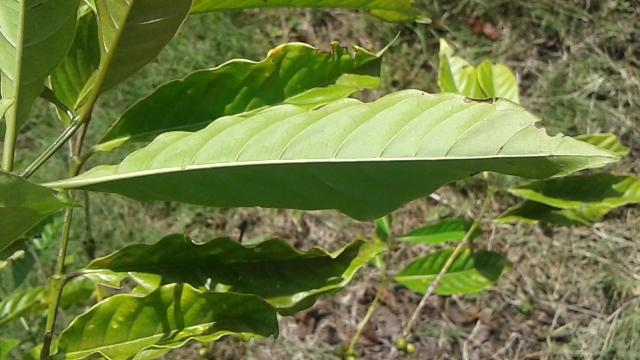healthy: (66, 84, 632, 228)
